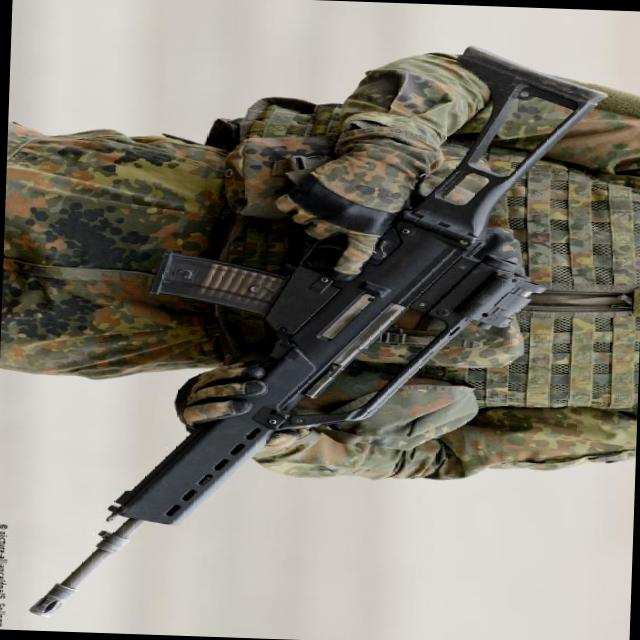long weapon: (21, 38, 603, 637)
